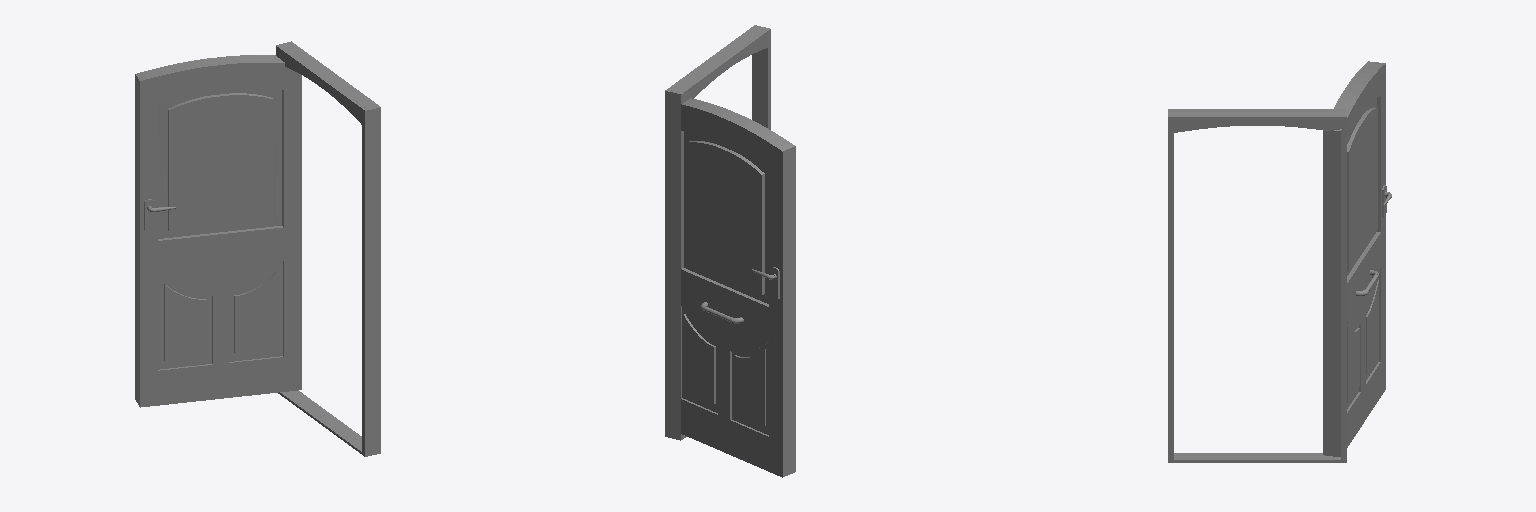
The model's file is door_open.obj.
The picture shows the model from 3 angles: view 1: azimuth 30°, elevation 25°; view 2: azimuth 150°, elevation 25°; view 3: azimuth 270°, elevation 25°; orthographic projection.
Parts seen in each view (by area): view 1: door, 7al2; view 2: door, 7al2; view 3: door, 7al2.
Boxes of the visible parts, <box> form: door: <box>135,55,301,407</box>; 7al2: <box>276,41,380,456</box>; door: <box>681,98,795,477</box>; 7al2: <box>665,25,770,440</box>; door: <box>1323,61,1385,456</box>; 7al2: <box>1168,109,1346,462</box>.
Size of the model in its own units: 221 by 509 by 299.